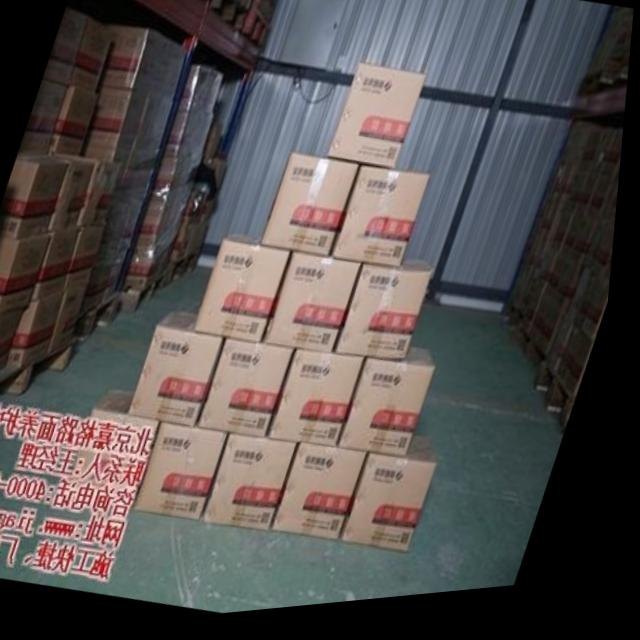box: (135, 313, 231, 431), (351, 443, 446, 560), (329, 69, 428, 176), (346, 355, 442, 464), (264, 157, 362, 263), (199, 238, 294, 347), (269, 257, 365, 361), (335, 174, 433, 274), (340, 268, 438, 367), (205, 342, 301, 443), (141, 424, 235, 525), (276, 356, 371, 455), (212, 437, 305, 537), (280, 450, 375, 547)
